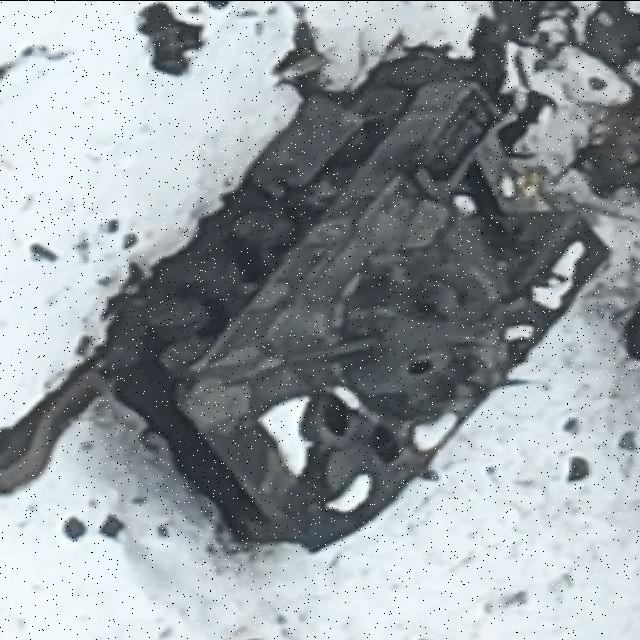APC-IFV: (153, 78, 620, 552)
